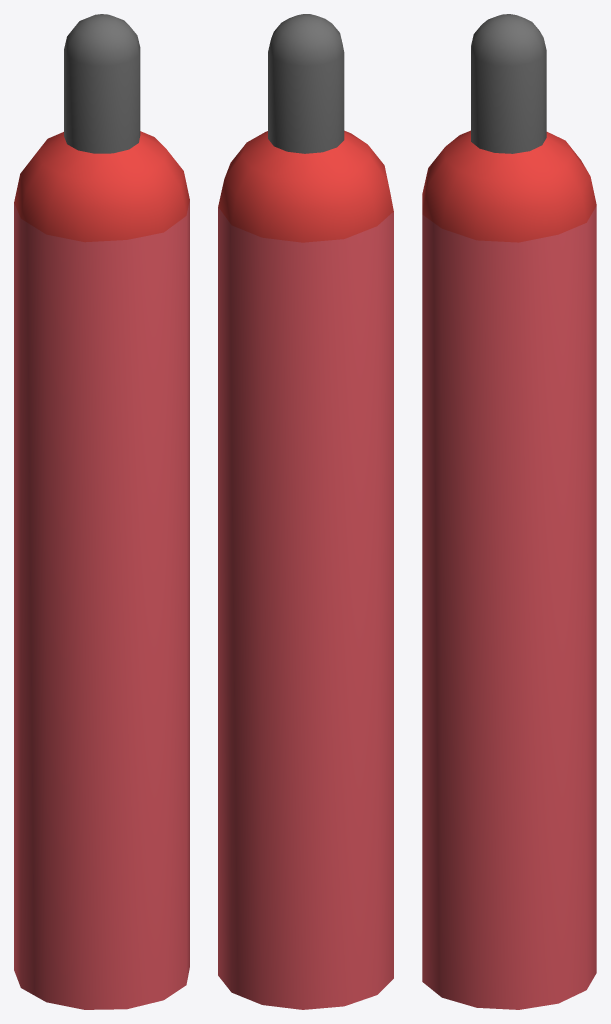
The model's file is tanque.fbx.
3 renders of one model, left to right at view 1: azimuth 30°, elevation 25°; view 2: azimuth 150°, elevation 25°; view 3: azimuth 270°, elevation 25°, orthographic.
Parts seen in each view (by area): view 1: balloon; view 2: balloon; view 3: balloon.
Part boxes in pixels (x1=…): balloon: x1=14, y1=14, x2=189, y2=1009; balloon: x1=218, y1=14, x2=393, y2=1009; balloon: x1=422, y1=14, x2=596, y2=1009.
Bounding box in the file's own units: 18.35 × 110 × 18.22.
